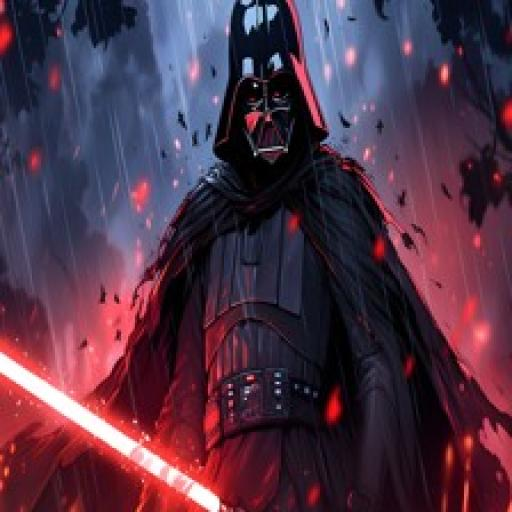human: (96, 1, 441, 512)
sith saber: (0, 345, 244, 510)
